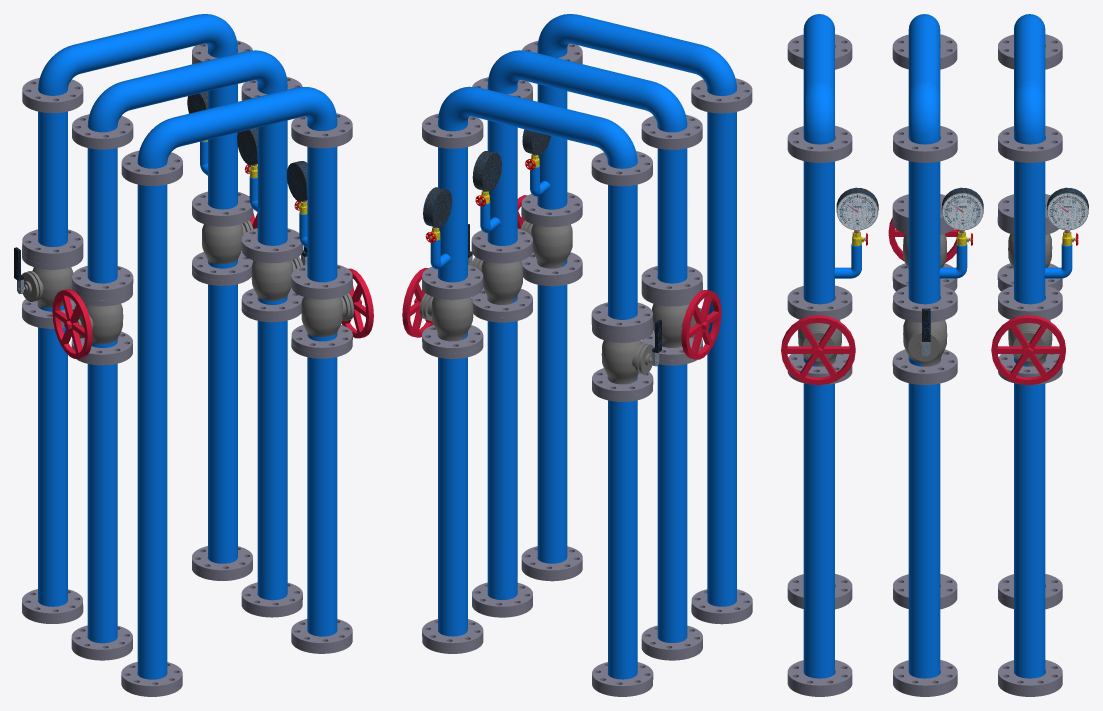
File: PipeBG3.dae
3 renders of one model, left to right at view 1: azimuth 30°, elevation 25°; view 2: azimuth 150°, elevation 25°; view 3: azimuth 270°, elevation 25°, orthographic. The views are drawn at different scales.
Parts seen in each view (by area): view 1: SketchUp (×3), jis_b_2220_jis_b_2220__16xzd14sb6cefvhwe6m68x8qm (×19), group_11 (×3), group_9 (×3), group_19 (×2), group_17 (×2), valve1, valve2; view 2: SketchUp (×3), jis_b_2220_jis_b_2220__16xzd14sb6cefvhwe6m68x8qm (×19), group_19 (×3), group_11 (×3), group_9 (×3), valve1, group_17 (×2), valve3, group_15; view 3: SketchUp (×3), jis_b_2220_jis_b_2220__16xzd14sb6cefvhwe6m68x8qm (×20), group_19 (×3), valve2, valve3, group_22, group_18, group_6, group_24, group_11.
Boxes of the visible parts, x1,y1,x2,y2 form: SketchUp (×3): (38, 14, 337, 679); jis_b_2220_jis_b_2220__16xzd14sb6cefvhwe6m68x8qm (×19): (22, 77, 352, 691); group_11 (×3): (202, 224, 342, 319); group_9 (×3): (202, 240, 342, 337); group_19 (×2): (237, 127, 307, 201); group_17 (×2): (32, 267, 123, 326); valve1: (52, 289, 92, 358); valve2: (341, 268, 373, 338); SketchUp (×3): (438, 14, 736, 679); jis_b_2220_jis_b_2220__16xzd14sb6cefvhwe6m68x8qm (×19): (422, 78, 752, 691); group_19 (×3): (423, 129, 550, 227); group_11 (×3): (432, 224, 572, 319); group_9 (×3): (432, 240, 572, 341); valve1: (681, 290, 721, 359); group_17 (×2): (601, 304, 689, 362); valve3: (402, 268, 433, 337); group_15: (601, 355, 638, 384); SketchUp (×3): (803, 14, 1045, 678); jis_b_2220_jis_b_2220__16xzd14sb6cefvhwe6m68x8qm (×20): (787, 34, 1062, 691); group_19 (×3): (837, 193, 1088, 230); valve2: (781, 315, 855, 385); valve3: (991, 315, 1065, 385); group_22: (1044, 243, 1072, 278); group_18: (939, 244, 967, 278); group_6: (908, 331, 940, 361); group_24: (834, 243, 861, 278); group_11: (903, 320, 947, 340).
Size of the model in its own units: 33.46 by 34.57 by 73.31.
17 materials, 2 textured.
